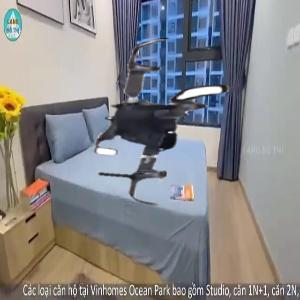drone: (78, 35, 258, 215)
